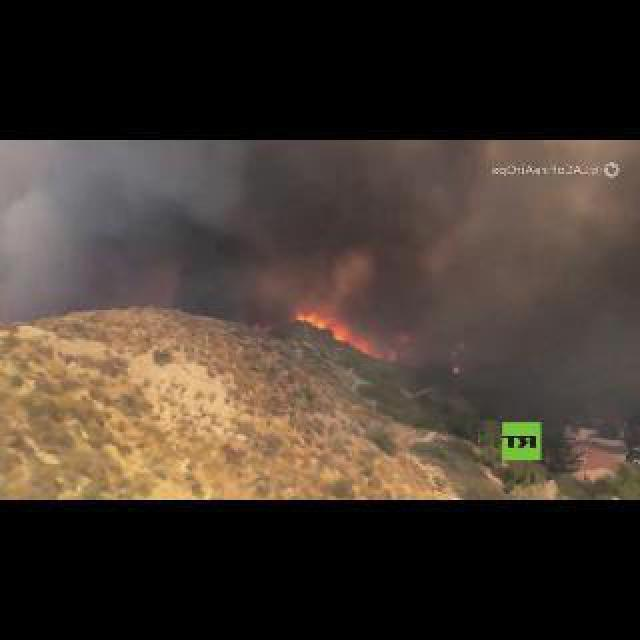Fire: (296, 310, 368, 352)
